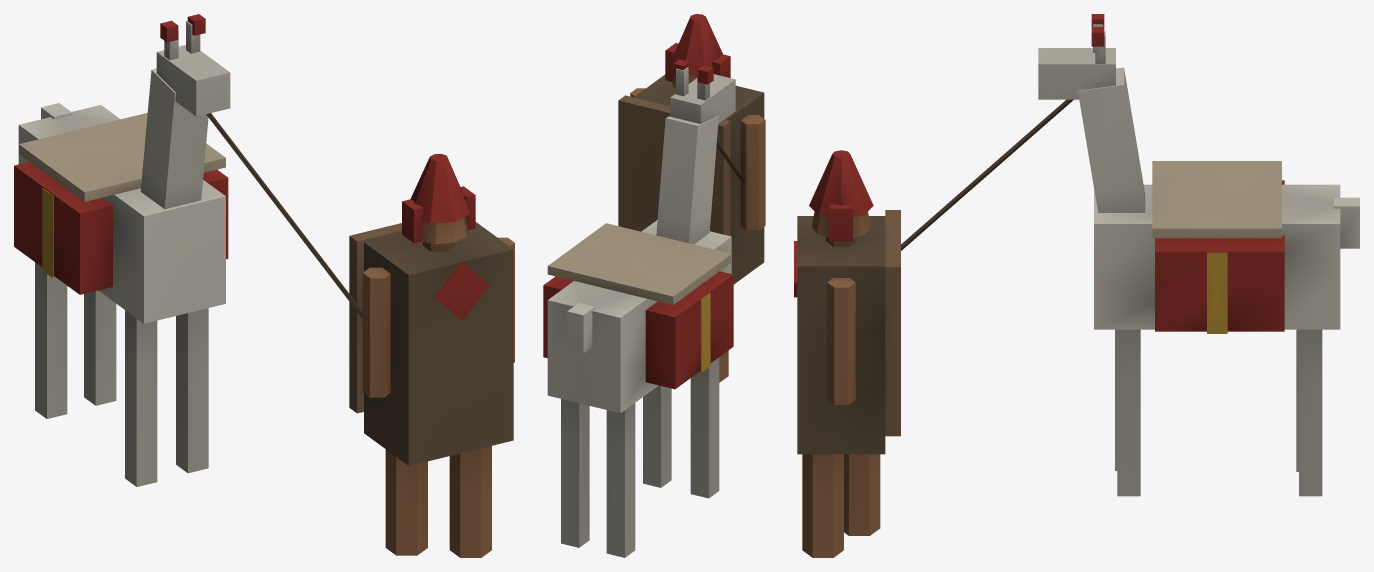
Rendered from mule.glb.
3 renders of one model, left to right at view 1: azimuth 30°, elevation 25°; view 2: azimuth 150°, elevation 25°; view 3: azimuth 270°, elevation 25°, orthographic. The views are drawn at different scales.
Parts seen in each view (by area): view 1: base; view 2: base; view 3: base.
Boxes of the visible parts, bbox=[...] form: base: bbox=[14, 14, 514, 557]; base: bbox=[543, 14, 765, 557]; base: bbox=[794, 14, 1359, 557].
Bounding box in the file's own units: 1.2 × 1.94 × 2.18.
